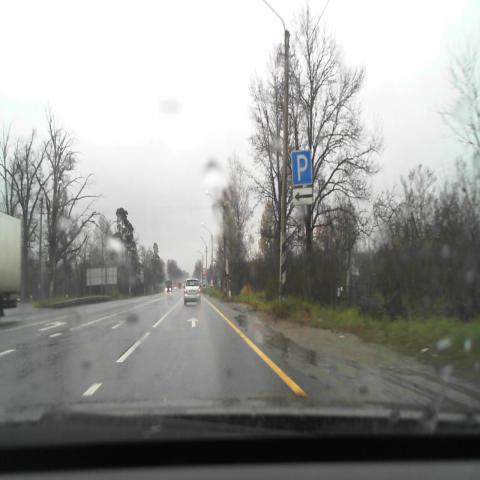6_4: (291, 150, 312, 185)
8_3_2: (292, 188, 313, 206)
